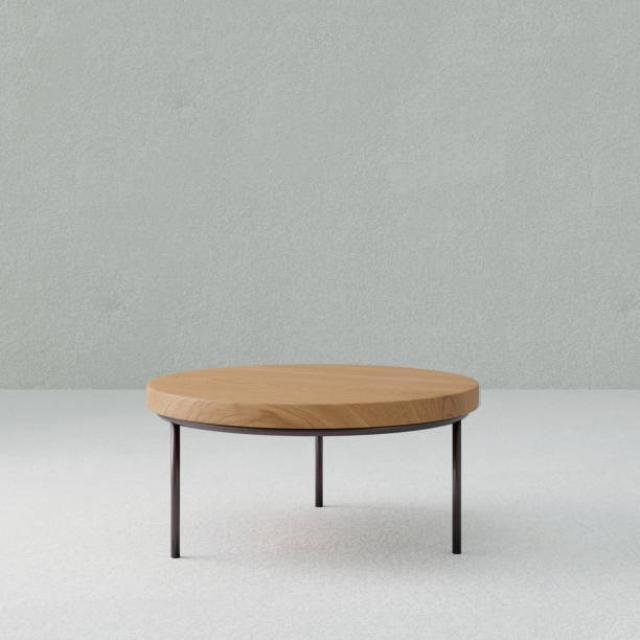table: (145, 362, 479, 558)
